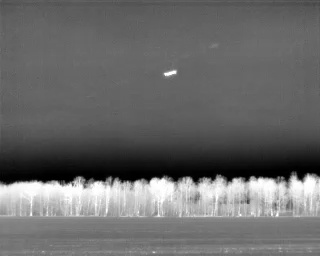DRONE: (160, 65, 181, 82)
